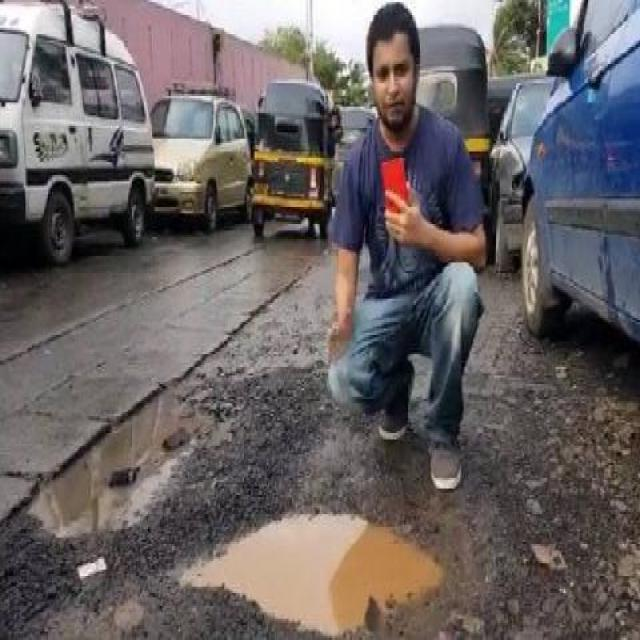buraco: (157, 501, 463, 640), (177, 501, 448, 634), (22, 380, 239, 546), (24, 384, 224, 536)
